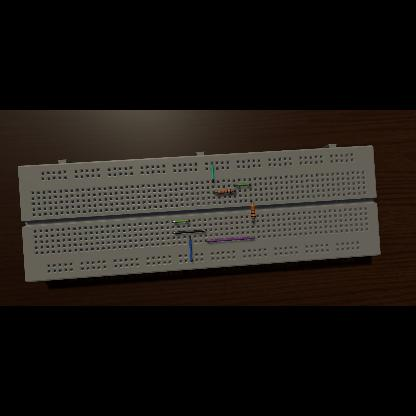breadboard: (18, 144, 380, 282)
resistor: (250, 204, 256, 219), (218, 190, 232, 194)
wire: (206, 237, 254, 242), (174, 230, 206, 234), (172, 220, 190, 224), (211, 163, 214, 183), (190, 236, 192, 262), (234, 184, 250, 186), (214, 192, 218, 194), (252, 219, 254, 223), (251, 202, 253, 204), (232, 192, 236, 192)
